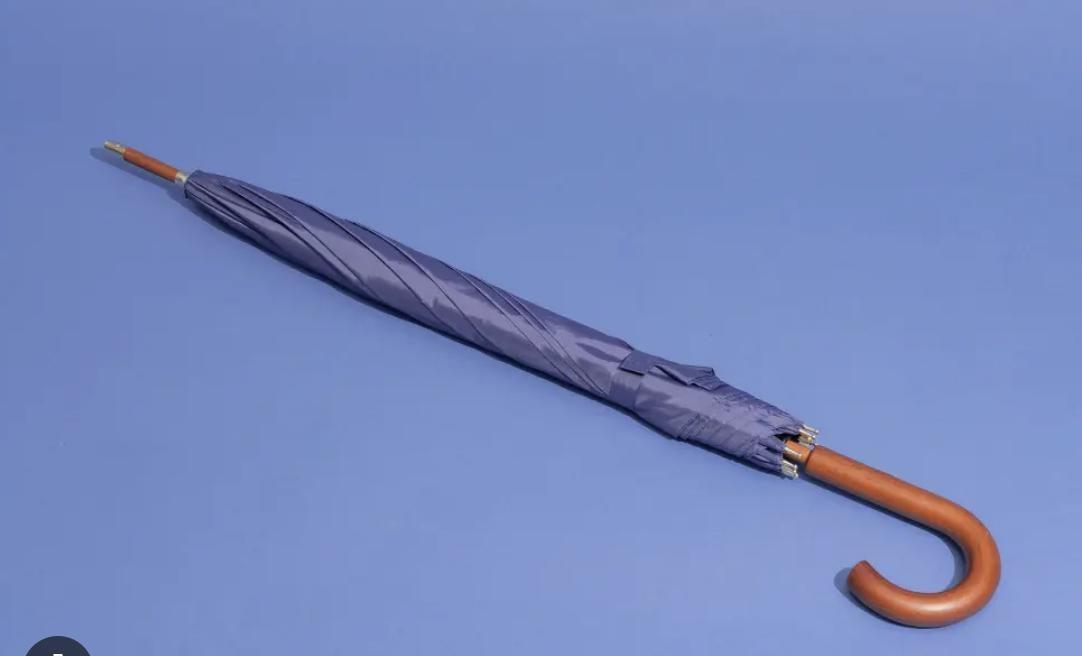Umbrella: (98, 132, 1004, 630)
